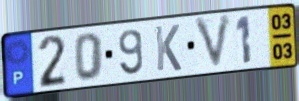0: (72, 31, 105, 83)
1: (235, 13, 254, 65)
2: (36, 34, 68, 90)
9: (117, 28, 145, 78)
K: (153, 23, 183, 73)
V: (192, 12, 234, 73)
